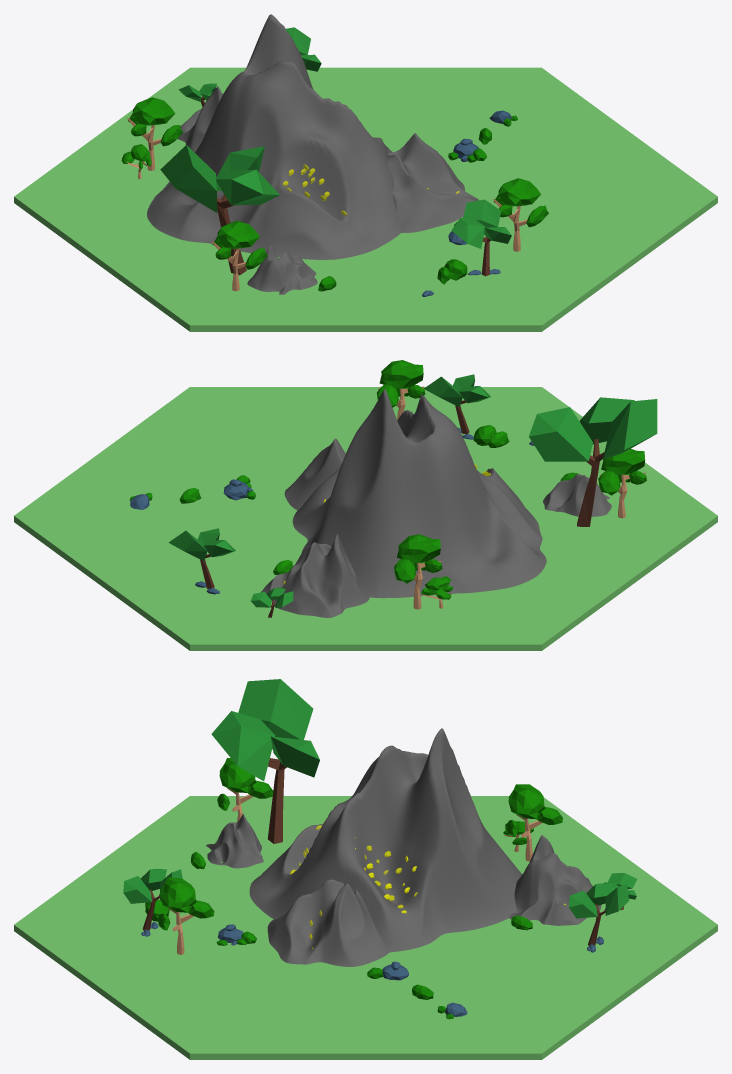
Rendered from Ressource Or.fbx.
3 renders of one model, top to bottom at view 1: azimuth 30°, elevation 25°; view 2: azimuth 150°, elevation 25°; view 3: azimuth 270°, elevation 25°, orthographic.
Parts seen in each view (by area): view 1: Cube.061; view 2: Cube.061; view 3: Cube.061.
Boxes of the visible parts, bbox=[...] form: Cube.061: bbox=[14, 14, 717, 331]; Cube.061: bbox=[14, 360, 717, 650]; Cube.061: bbox=[14, 679, 717, 1059].
Bounding box in the file's own units: 1732 × 549 × 2000.
